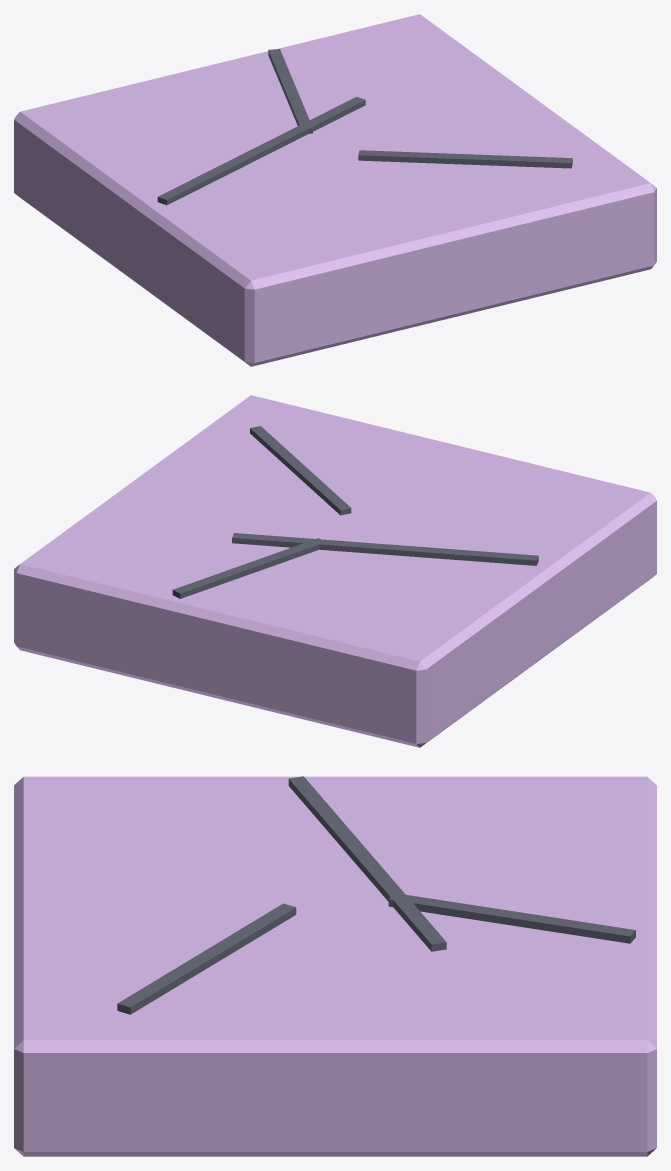
Rendered from Trap_PisoFalso.fbx.
3 views of the same model, one above another, from view 1: azimuth 30°, elevation 25°; view 2: azimuth 150°, elevation 25°; view 3: azimuth 270°, elevation 25° (orthographic). The views are drawn at different scales.
Visible parts, largest first — view 1: Trap_PisoFalso; view 2: Trap_PisoFalso; view 3: Trap_PisoFalso.
Boxes of the visible parts, x1=… form: Trap_PisoFalso: x1=14, y1=14, x2=656, y2=366; Trap_PisoFalso: x1=14, y1=395, x2=656, y2=747; Trap_PisoFalso: x1=14, y1=776, x2=656, y2=1156.
Bounding box in the file's own units: 2 × 0.425 × 2.
